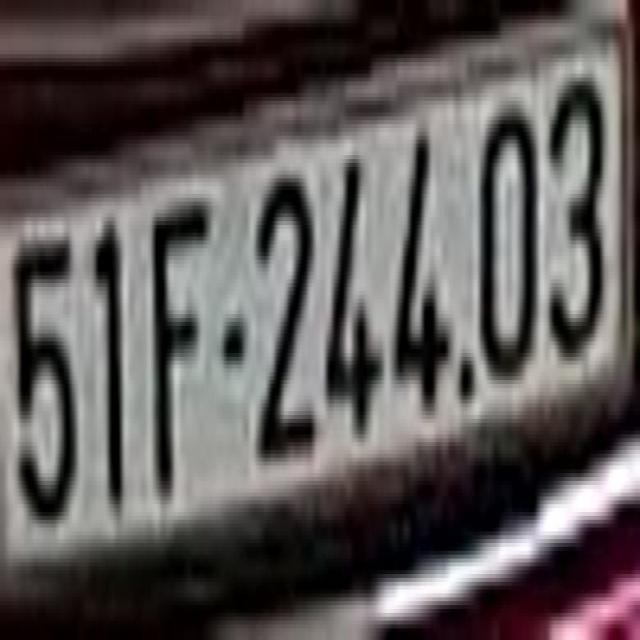0: (478, 58, 538, 388)
1: (85, 175, 136, 539)
2: (253, 128, 320, 481)
3: (544, 50, 606, 392)
4: (323, 105, 383, 469), (388, 97, 448, 450)
5: (8, 182, 83, 555)
F: (146, 155, 213, 508)
